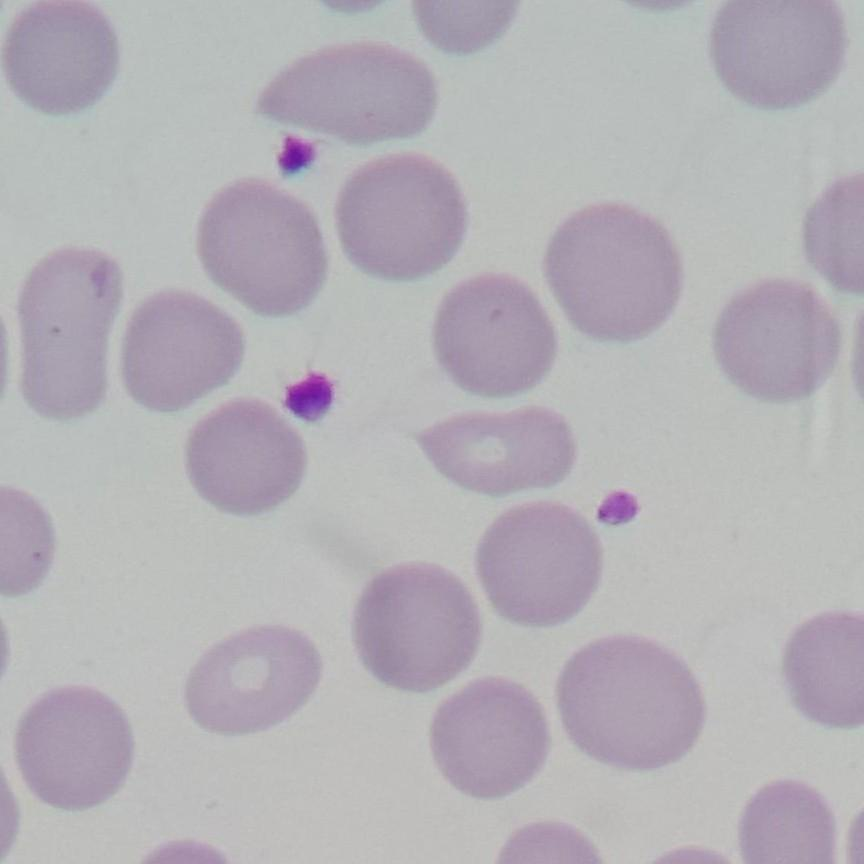Uninfected: (92, 557, 228, 703), (720, 256, 825, 437), (521, 546, 658, 683), (445, 15, 616, 123), (548, 197, 683, 330), (581, 337, 710, 466), (171, 354, 302, 480), (460, 712, 585, 841), (238, 476, 364, 603), (451, 122, 577, 248), (466, 434, 590, 560), (127, 183, 241, 319), (64, 431, 187, 552), (55, 15, 180, 133), (368, 417, 458, 576), (753, 713, 861, 844), (347, 186, 465, 304), (747, 3, 860, 116)
